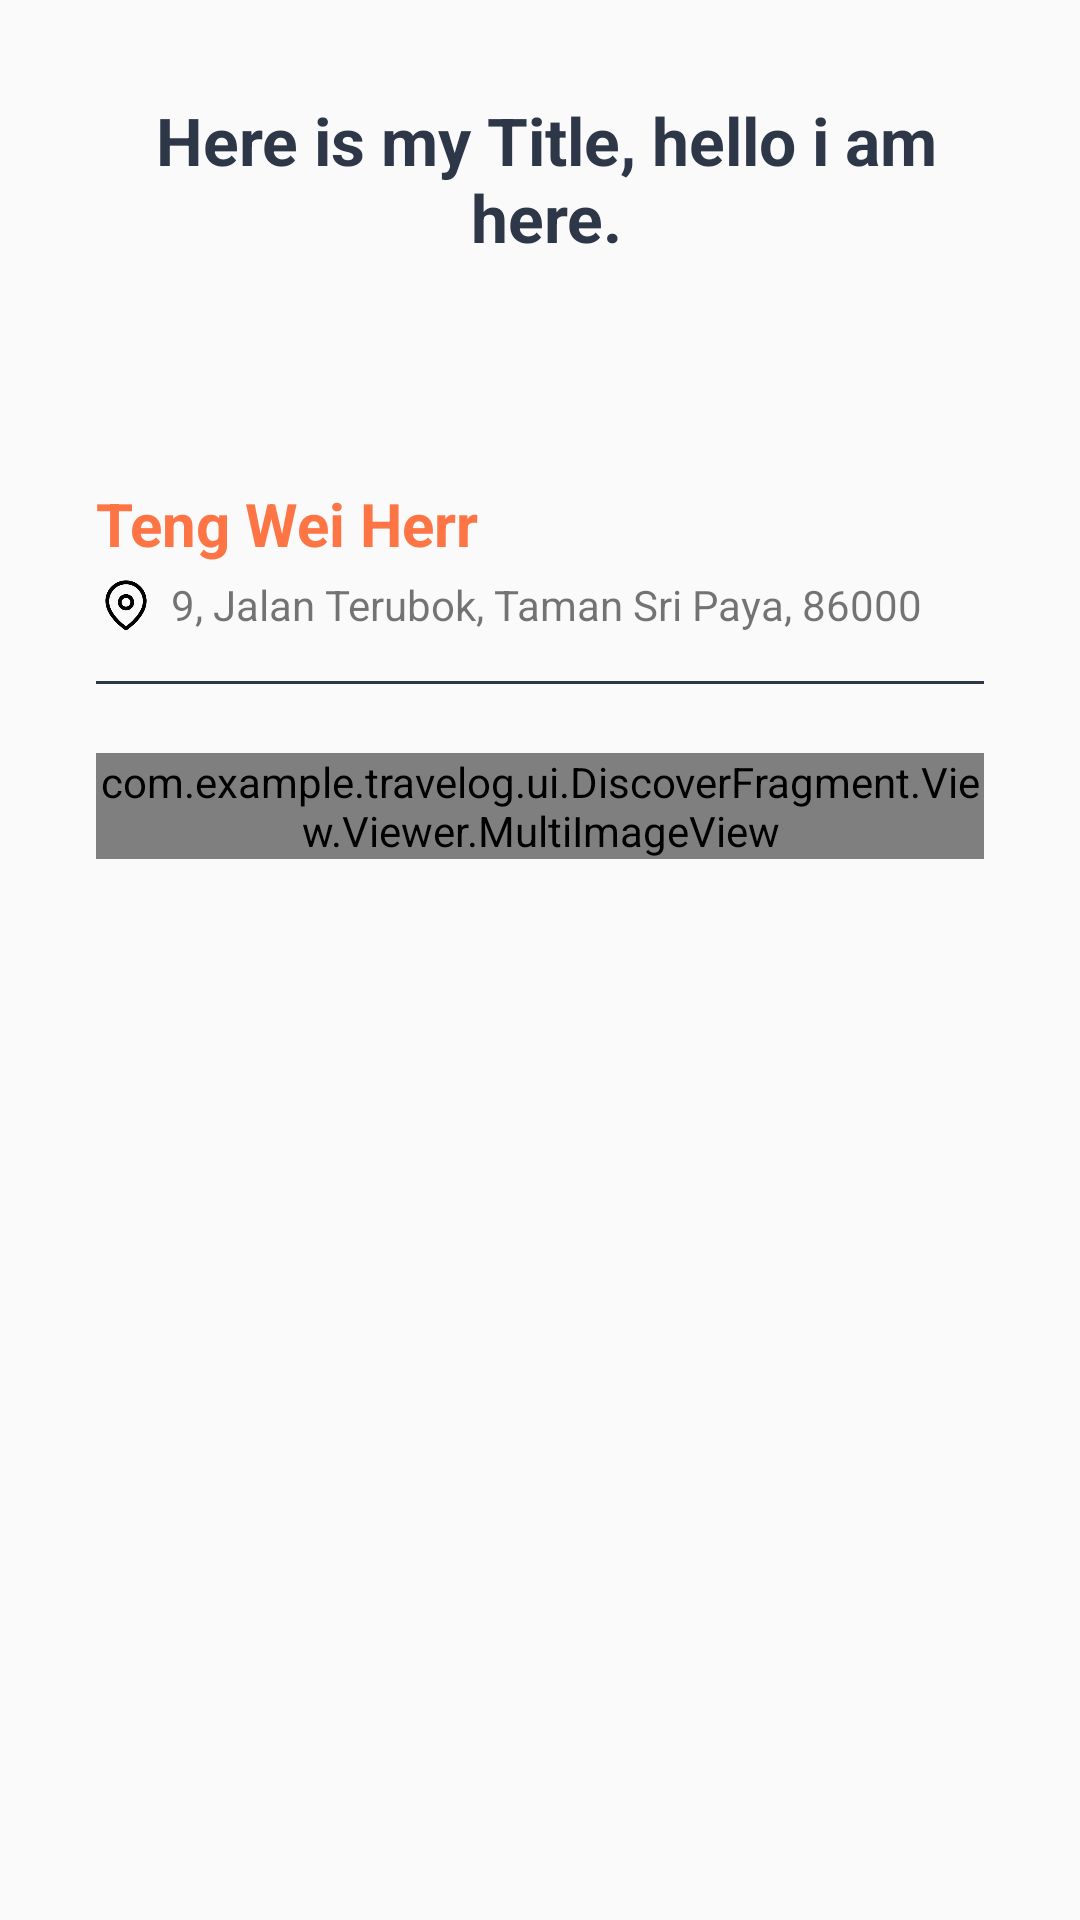

Point at icon controls on the screen. Image size 1080 × 1920, points as point (x, y).
location: point (126, 605)
